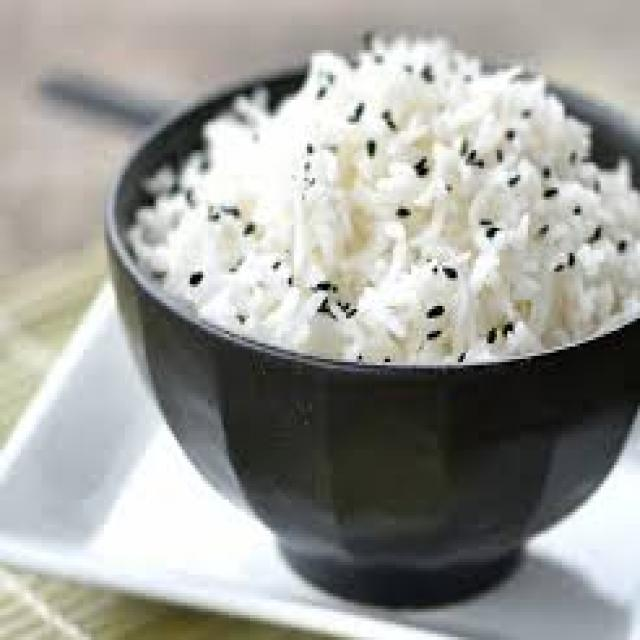White Rice: (120, 34, 640, 590)
